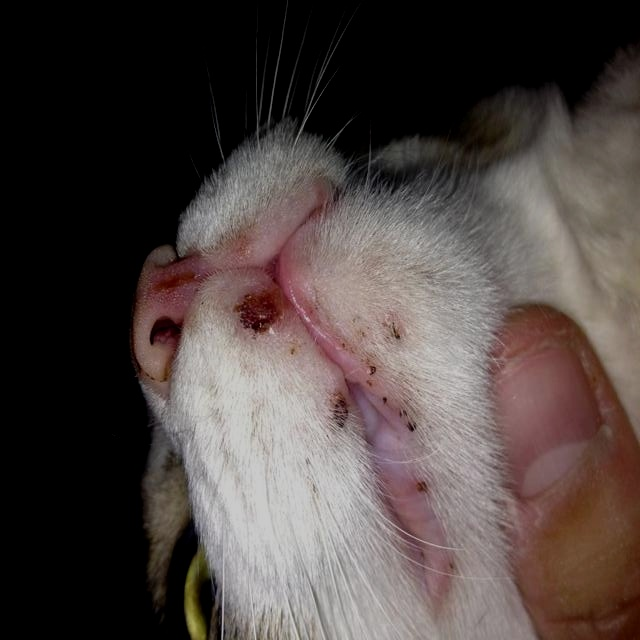acne: (328, 390, 349, 430), (384, 316, 411, 344)
